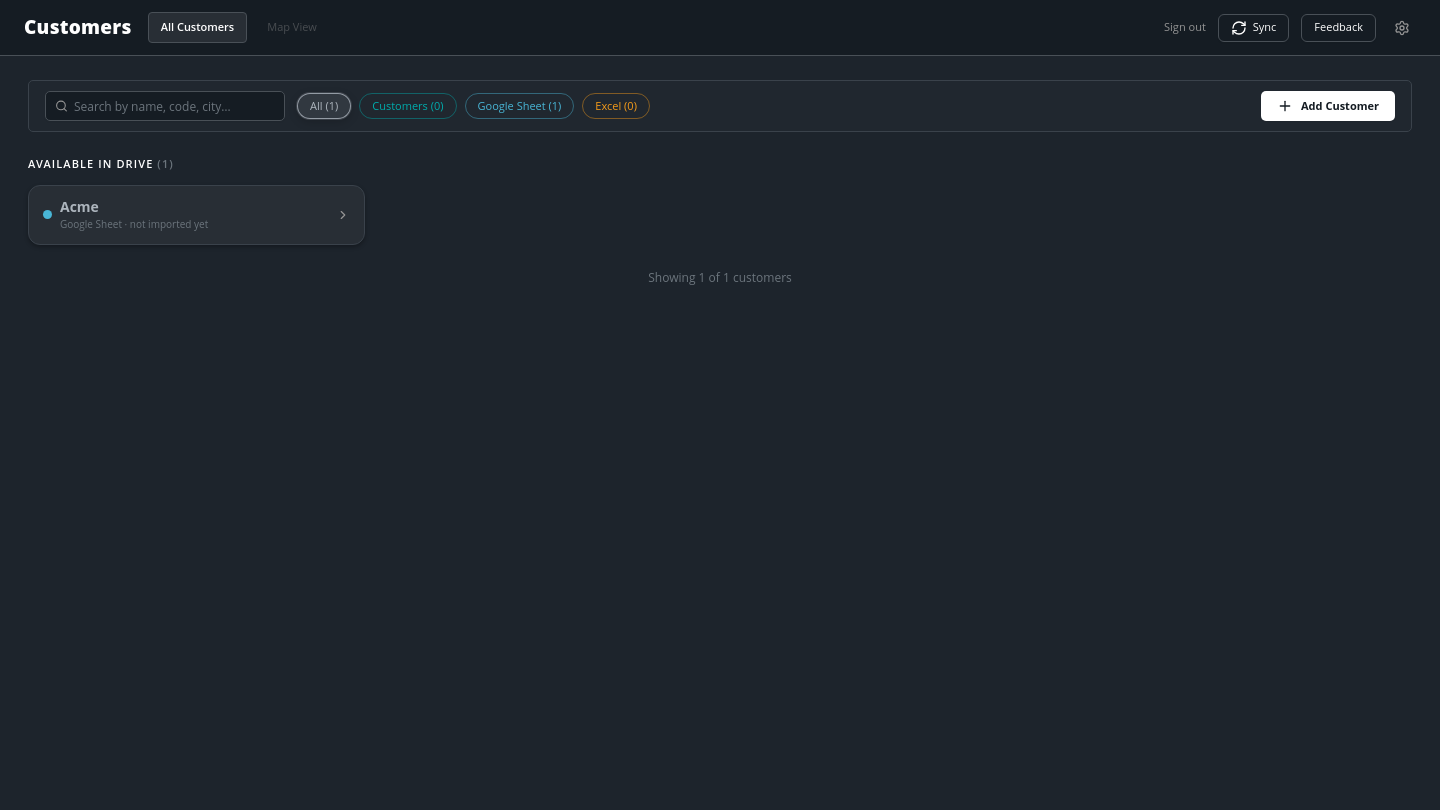
Scenario: Drive site-configs › reports an import failure inside the dialog and saves nothing locally
Click the heading "Acme" at (79, 206), box [60,198,99,215]
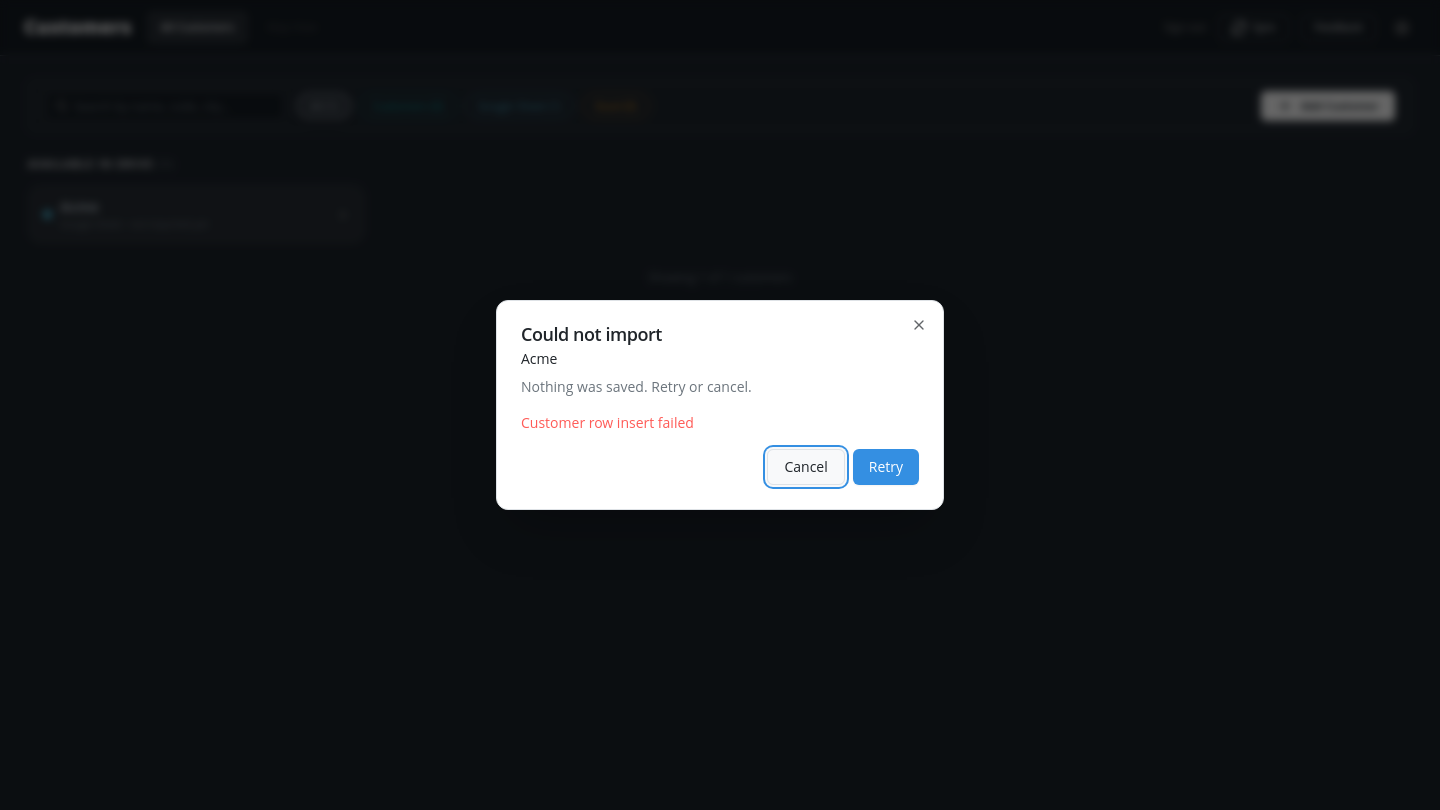
Check: the text "Customer row insert failed" is shown, box [521,413,694,432]
Check: the button "Retry" is shown, box [853,449,919,485]
